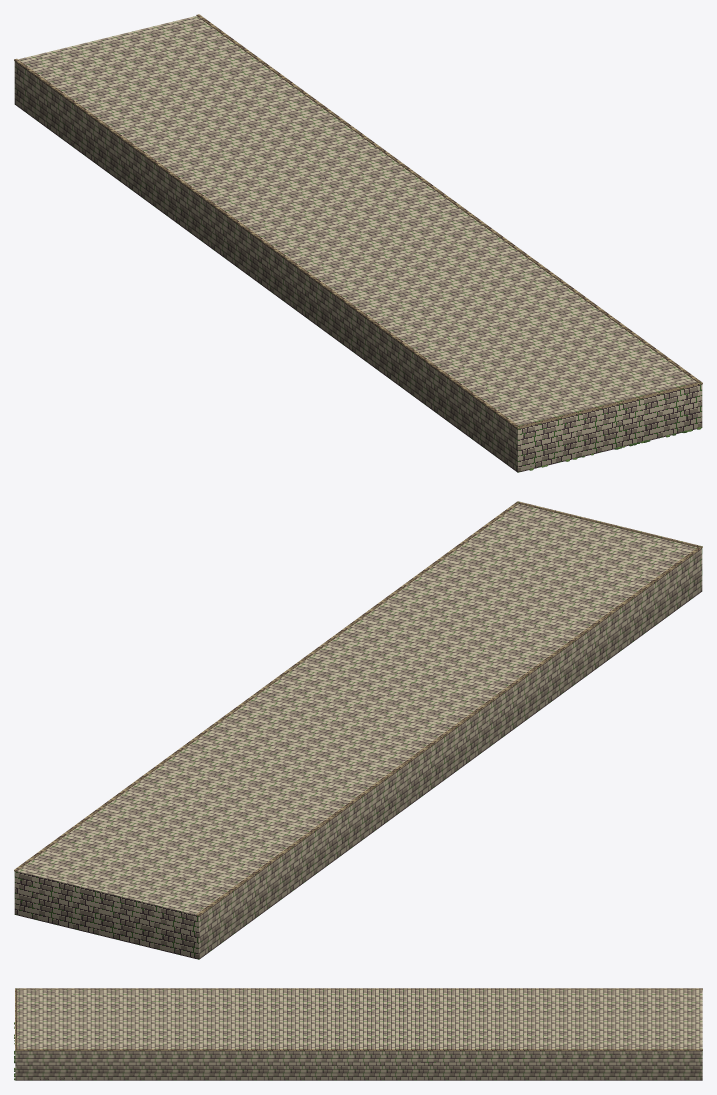
Rendered from scene_wall_w.glb.
3 views of the same model, one above another, from view 1: azimuth 30°, elevation 25°; view 2: azimuth 150°, elevation 25°; view 3: azimuth 270°, elevation 25° (orthographic). The views are drawn at different scales.
Visible parts, largest first — view 1: scene_wall_w; view 2: scene_wall_w; view 3: scene_wall_w.
Part boxes in pixels (box(x1,y1,x2,y2)): scene_wall_w: box(14, 14, 702, 472); scene_wall_w: box(14, 501, 702, 959); scene_wall_w: box(14, 988, 702, 1080).
Size of the model in its own units: 21.9 by 5.17 by 103.
2 materials, 1 textured.
